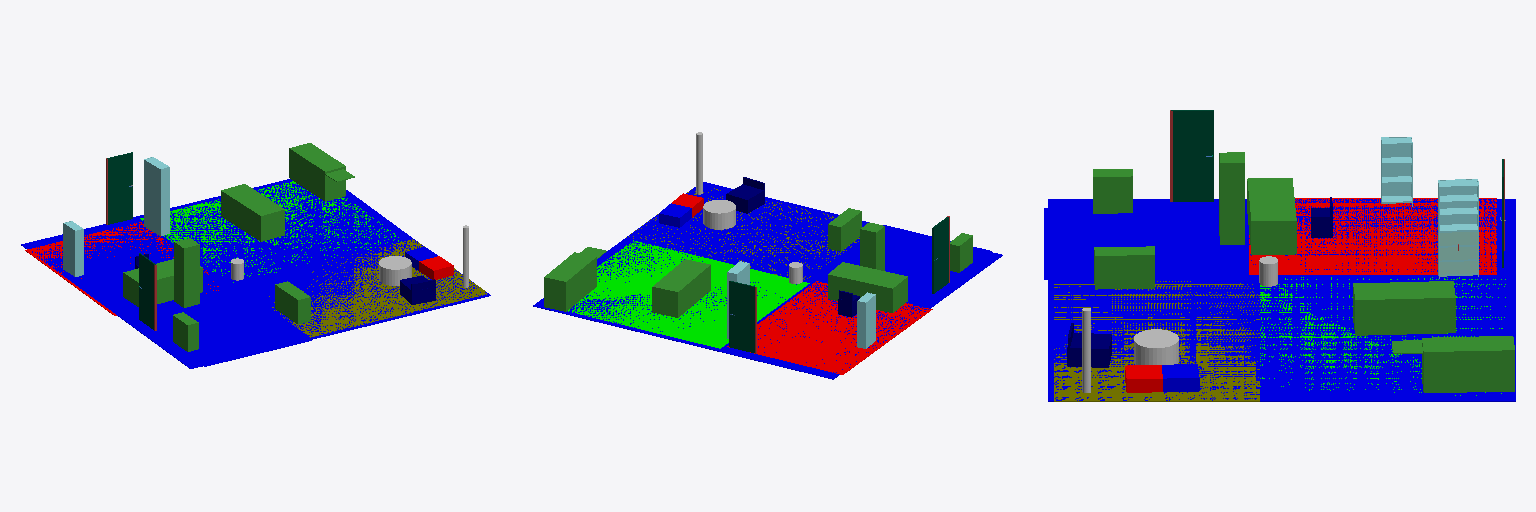
--- What the picture shows (computed from the rendered views, not written in the file) ---
The picture shows the robot from 3 angles, left to right: view 1: azimuth 30°, elevation 25°; view 2: azimuth 150°, elevation 25°; view 3: azimuth 270°, elevation 25°; orthographic projection.
Robot: iai-kitchen — 102 links, 101 joints (7 revolute, 94 fixed); root link urdf_main; default pose: all joints at 0.
Links seen in each view (by area): view 1: arena:arena:room_center_link, living_room:living_room:room_center_link, iai_kitchen:kitchen:room_center_link, dinner_table:dinner_table:table_center, kitchen_counter:kitchen_counter:table_center, coathanger:coathanger:coathanger_center, office:arena:door_center, desk:desk:table_center, office:office:room_center_link, tv_table:tv_table:table_center, shelf_hohc:kitchen_cabinet:shelf_back, iai_kitchen:arena:door_center (+6 smaller); view 2: arena:arena:room_center_link, iai_kitchen:kitchen:room_center_link, office:office:room_center_link, hallway:hallway:room_center_link, desk:desk:table_center, dinner_table:dinner_table:table_center, kitchen_counter:kitchen_counter:table_center, office:arena:door_center, iai_kitchen:arena:door_center, coathanger:coathanger:coathanger_center, tv_table:tv_table:table_center, coffee_table:coffee_table:table_center (+4 smaller); view 3: arena:arena:room_center_link, hallway:hallway:room_center_link, office:office:room_center_link, living_room:living_room:room_center_link, dinner_table:dinner_table:table_center, kitchen_counter:kitchen_counter:table_center, iai_kitchen:arena:door_center, desk:desk:table_center, tv_table:tv_table:table_center, coathanger:coathanger:coathanger_center, iai_kitchen:kitchen:room_center_link, hallway_cabinet:hallway_cabinet:table_center (+11 smaller).
Link boxes in pixels (x1,y1,x2,y2): arena:arena:room_center_link: (21,179,490,368); living_room:living_room:room_center_link: (269,239,486,337); iai_kitchen:kitchen:room_center_link: (140,181,401,282); dinner_table:dinner_table:table_center: (221,184,284,241); kitchen_counter:kitchen_counter:table_center: (289,143,345,201); coathanger:coathanger:coathanger_center: (174,238,199,307); office:arena:door_center: (107,152,132,224); desk:desk:table_center: (123,259,202,306); office:office:room_center_link: (25,222,218,315); tv_table:tv_table:table_center: (275,281,310,324); shelf_hohc:kitchen_cabinet:shelf_back: (144,159,160,235); iai_kitchen:arena:door_center: (139,253,155,329); arena:arena:room_center_link: (533,182,1002,379); iai_kitchen:kitchen:room_center_link: (568,240,809,348); office:office:room_center_link: (727,281,932,374); hallway:hallway:room_center_link: (812,225,991,303); desk:desk:table_center: (828,262,907,312); dinner_table:dinner_table:table_center: (652,259,710,317); kitchen_counter:kitchen_counter:table_center: (544,252,596,311); office:arena:door_center: (729,281,754,352); iai_kitchen:arena:door_center: (932,217,948,293); coathanger:coathanger:coathanger_center: (860,222,884,270); tv_table:tv_table:table_center: (828,208,861,251); coffee_table:coffee_table:table_center: (703,200,735,229); arena:arena:room_center_link: (1048,199,1515,401); hallway:hallway:room_center_link: (1044,208,1244,279); office:office:room_center_link: (1249,198,1496,274); living_room:living_room:room_center_link: (1054,281,1259,401); dinner_table:dinner_table:table_center: (1353,281,1455,335); kitchen_counter:kitchen_counter:table_center: (1422,336,1514,392); iai_kitchen:arena:door_center: (1171,110,1213,201); desk:desk:table_center: (1247,178,1296,254); tv_table:tv_table:table_center: (1094,246,1154,289); coathanger:coathanger:coathanger_center: (1219,152,1244,244); iai_kitchen:kitchen:room_center_link: (1260,277,1505,395); hallway_cabinet:hallway_cabinet:table_center: (1093,169,1132,213).
Bounding box of the posed robot: 9.59 × 9.36 × 2.1 m (x, y, z).
0 mesh visuals loaded from 3 distinct referenced files (none loaded); not drawn: 3 (reference not matched to a file when rendering).

URDF robot description (iai-kitchen):
<?xml version="1.0" ?>
<robot name="iai-kitchen" version="1.0">
  <material name="table_grey">
    <color rgba="0.255 0.62 0.223 1.0"/>
  </material>
  <material name="round_table_grey">
    <color rgba="0.8 0.8 0.8 1.0"/>
  </material>
  <material name="wall_pink">
    <color rgba="0.95 0.43 0.96 1.0"/>
  </material>
  <material name="shelf_blue">
    <color rgba="0.59 0.88 0.9 1.0"/>
  </material>
  <material name="shelf_door_green">
    <color rgba="0.64 0.87 0.82 1.0"/>
  </material>
  <material name="shelf_openable_handle_red">
    <color rgba="0.74 0.25 0.25 1.0"/>
  </material>
  <material name="shelf_hohc_handle_red">
    <color rgba="0.74 0.25 0.25 1.0"/>
  </material>
  <material name="door_green">
    <color rgba="0.0 0.31 0.22 1.0"/>
  </material>
  <material name="hinge_red">
    <color rgba="0.74 0.25 0.25 1.0"/>
  </material>
  <material name="handle_blue">
    <color rgba="0.3 0.5 0.78 1.0"/>
  </material>
  <material name="bucket_grey">
    <color rgba="0.8 0.8 0.8 1.0"/>
  </material>
  <material name="white">
    <color rgba="1.0 1.0 1.0 1.0"/>
  </material>
  <material name="orange">
    <color rgba="1.0 0.7 0.0 1.0"/>
  </material>
  <material name="handle_white">
    <color rgba="1.0 1.0 1.0 1.0"/>
  </material>
  <material name="bottom_white">
    <color rgba="1.0 1.0 1.0 1.0"/>
  </material>
  <material name="frame_wood">
    <color rgba="0.68 0.63 0.47 1.0"/>
  </material>
  <material name="handle_grey">
    <color rgba="0.7 0.7 0.7 1.0"/>
  </material>
  <material name="dishwasher_table_color">
    <color rgba="0.255 0.62 0.223 1.0"/>
  </material>
  <material name="dishwasher_robocup_table_color">
    <color rgba="0.255 0.62 0.223 1.0"/>
  </material>
  <material name="color_grey">
    <color rgba="0.8 0.8 0.8 1.0"/>
  </material>
  <material name="color_red">
    <color rgba="1.0 0.0 0.0 1.0"/>
  </material>
  <material name="color_blue">
    <color rgba="0.0 0.0 1.0 1.0"/>
  </material>
  <material name="simple_couch_color_grey">
    <color rgba="0.8 0.8 0.8 1.0"/>
  </material>
  <material name="simple_couch_color_red">
    <color rgba="1.0 0.0 0.0 1.0"/>
  </material>
  <material name="simple_couch_color_blue">
    <color rgba="0.0 0.0 1.0 1.0"/>
  </material>
  <material name="trashcan_color">
    <color rgba="0.8 0.8 0.8 1.0"/>
  </material>
  <material name="chair_color">
    <color rgba="0.0 0.0 0.5 1.0"/>
  </material>
  <material name="coathanger_color">
    <color rgba="0.255 0.62 0.223 1.0"/>
  </material>
  <material name="lamp_color">
    <color rgba="0.8 0.8 0.8 1.0"/>
  </material>
  <link name="tv_table:tv_table:table_center">
    <inertial>
      <origin xyz="0.0 0.0 0.0" rpy="0.0 0.0 0.0"/>
      <mass value="1.0"/>
      <inertia ixx="0.1" ixy="0.0" ixz="0.0" iyy="0.1" iyz="0.0" izz="0.1"/>
    </inertial>
    <visual>
      <origin xyz="0.0 0.0 -0.369" rpy="0.0 0.0 0.0"/>
      <geometry>
        <box size="0.412 1.2 0.738"/>
      </geometry>
      <material name="table_grey"/>
    </visual>
    <collision>
      <origin xyz="0.0 0.0 -0.369" rpy="0.0 0.0 0.0"/>
      <geometry>
        <box size="0.412 1.2 0.738"/>
      </geometry>
    </collision>
  </link>
  <link name="tv_table:tv_table:table_origin"/>
  <link name="tv_table:tv_table:table_front_edge_center"/>
  <joint name="tv_table:tv_table:table_origin_joint" type="fixed">
    <origin xyz="5.96 -0.24 0.0" rpy="0.0 0.0 3.17"/>
    <parent link="urdf_offset"/>
    <child link="tv_table:tv_table:table_origin"/>
  </joint>
  <joint name="tv_table:tv_table:center_joint" type="fixed">
    <origin xyz="0.206 0.6 0.738" rpy="0.0 0.0 0.0"/>
    <parent link="tv_table:tv_table:table_origin"/>
    <child link="tv_table:tv_table:table_center"/>
  </joint>
  <joint name="tv_table:tv_table:table_front_edge_center_joint" type="fixed">
    <origin xyz="0.0 0.6 0.738" rpy="0.0 0.0 0.0"/>
    <parent link="tv_table:tv_table:table_origin"/>
    <child link="tv_table:tv_table:table_front_edge_center"/>
  </joint>
  <link name="hallway_cabinet:hallway_cabinet:table_center">
    <inertial>
      <origin xyz="0.0 0.0 0.0" rpy="0.0 0.0 0.0"/>
      <mass value="1.0"/>
      <inertia ixx="0.1" ixy="0.0" ixz="0.0" iyy="0.1" iyz="0.0" izz="0.1"/>
    </inertial>
    <visual>
      <origin xyz="0.0 0.0 -0.404" rpy="0.0 0.0 0.0"/>
      <geometry>
        <box size="0.3503 0.795 0.808"/>
      </geometry>
      <material name="table_grey"/>
    </visual>
    <collision>
      <origin xyz="0.0 0.0 -0.404" rpy="0.0 0.0 0.0"/>
      <geometry>
        <box size="0.3503 0.795 0.808"/>
      </geometry>
    </collision>
  </link>
  <link name="hallway_cabinet:hallway_cabinet:table_origin"/>
  <link name="hallway_cabinet:hallway_cabinet:table_front_edge_center"/>
  <joint name="hallway_cabinet:hallway_cabinet:table_origin_joint" type="fixed">
    <origin xyz="2.41 -0.675 0.0" rpy="0.0 0.0 3.17"/>
    <parent link="urdf_offset"/>
    <child link="hallway_cabinet:hallway_cabinet:table_origin"/>
  </joint>
  <joint name="hallway_cabinet:hallway_cabinet:center_joint" type="fixed">
    <origin xyz="0.17515 0.3975 0.808" rpy="0.0 0.0 0.0"/>
    <parent link="hallway_cabinet:hallway_cabinet:table_origin"/>
    <child link="hallway_cabinet:hallway_cabinet:table_center"/>
  </joint>
  <joint name="hallway_cabinet:hallway_cabinet:table_front_edge_center_joint" type="fixed">
    <origin xyz="0.0 0.3975 0.808" rpy="0.0 0.0 0.0"/>
    <parent link="hallway_cabinet:hallway_cabinet:table_origin"/>
    <child link="hallway_cabinet:hallway_cabinet:table_front_edge_center"/>
  </joint>
  <link name="desk:desk:table_center">
    <inertial>
      <origin xyz="0.0 0.0 0.0" rpy="0.0 0.0 0.0"/>
      <mass value="1.0"/>
      <inertia ixx="0.1" ixy="0.0" ixz="0.0" iyy="0.1" iyz="0.0" izz="0.1"/>
    </inertial>
    <visual>
      <origin xyz="0.0 0.0 -0.3715" rpy="0.0 0.0 0.0"/>
      <geometry>
        <box size="0.901 2.017 0.743"/>
      </geometry>
      <material name="table_grey"/>
    </visual>
    <collision>
      <origin xyz="0.0 0.0 -0.3715" rpy="0.0 0.0 0.0"/>
      <geometry>
        <box size="0.901 2.017 0.743"/>
      </geometry>
    </collision>
  </link>
  <link name="desk:desk:table_origin"/>
  <link name="desk:desk:table_front_edge_center"/>
  <joint name="desk:desk:table_origin_joint" type="fixed">
    <origin xyz="2.33 2.49 0.0" rpy="0.0 0.0 -1.53"/>
    <parent link="urdf_offset"/>
    <child link="desk:desk:table_origin"/>
  </joint>
  <joint name="desk:desk:center_joint" type="fixed">
    <origin xyz="0.4505 1.0085 0.743" rpy="0.0 0.0 0.0"/>
    <parent link="desk:desk:table_origin"/>
    <child link="desk:desk:table_center"/>
  </joint>
  <joint name="desk:desk:table_front_edge_center_joint" type="fixed">
    <origin xyz="0.0 1.0085 0.743" rpy="0.0 0.0 0.0"/>
    <parent link="desk:desk:table_origin"/>
    <child link="desk:desk:table_front_edge_center"/>
  </joint>
  <link name="dinner_table:dinner_table:table_center">
    <inertial>
      <origin xyz="0.0 0.0 0.0" rpy="0.0 0.0 0.0"/>
      <mass value="1.0"/>
      <inertia ixx="0.1" ixy="0.0" ixz="0.0" iyy="0.1" iyz="0.0" izz="0.1"/>
    </inertial>
    <visual>
      <origin xyz="0.0 0.0 -0.39" rpy="0.0 0.0 0.0"/>
      <geometry>
        <box size="0.792 2.0 0.78"/>
      </geometry>
      <material name="table_grey"/>
    </visual>
    <collision>
      <origin xyz="0.0 0.0 -0.39" rpy="0.0 0.0 0.0"/>
      <geometry>
        <box size="0.792 2.0 0.78"/>
      </geometry>
    </collision>
  </link>
  <link name="dinner_table:dinner_table:table_origin"/>
  <link name="dinner_table:dinner_table:table_front_edge_center"/>
  <joint name="dinner_table:dinner_table:table_origin_joint" type="fixed">
    <origin xyz="7.38 3.69 0.0" rpy="0.0 0.0 0.06"/>
    <parent link="urdf_offset"/>
    <child link="dinner_table:dinner_table:table_origin"/>
  </joint>
  <joint name="dinner_table:dinner_table:center_joint" type="fixed">
    <origin xyz="0.396 1.0 0.78" rpy="0.0 0.0 0.0"/>
    <parent link="dinner_table:dinner_table:table_origin"/>
    <child link="dinner_table:dinner_table:table_center"/>
  </joint>
  <joint name="dinner_table:dinner_table:table_front_edge_center_joint" type="fixed">
    <origin xyz="0.0 1.0 0.78" rpy="0.0 0.0 0.0"/>
    <parent link="dinner_table:dinner_table:table_origin"/>
    <child link="dinner_table:dinner_table:table_front_edge_center"/>
  </joint>
  <link name="kitchen_counter:kitchen_counter:table_center">
    <inertial>
      <origin xyz="0.0 0.0 0.0" rpy="0.0 0.0 0.0"/>
      <mass value="1.0"/>
      <inertia ixx="0.1" ixy="0.0" ixz="0.0" iyy="0.1" iyz="0.0" izz="0.1"/>
    </inertial>
    <visual>
      <origin xyz="0.0 0.0 -0.4525" rpy="0.0 0.0 0.0"/>
      <geometry>
        <box size="0.68 1.82 0.905"/>
      </geometry>
      <material name="table_grey"/>
    </visual>
    <collision>
      <origin xyz="0.0 0.0 -0.4525" rpy="0.0 0.0 0.0"/>
      <geometry>
        <box size="0.68 1.82 0.905"/>
      </geometry>
    </collision>
  </link>
  <link name="kitchen_counter:kitchen_counter:table_origin"/>
  <link name="kitchen_counter:kitchen_counter:table_front_edge_center"/>
  <joint name="kitchen_counter:kitchen_counter:table_origin_joint" type="fixed">
    <origin xyz="10.2 5.06 0.0" rpy="0.0 0.0 0.05"/>
    <parent link="urdf_offset"/>
    <child link="kitchen_counter:kitchen_counter:table_origin"/>
  </joint>
  <joint name="kitchen_counter:kitchen_counter:center_joint" type="fixed">
    <origin xyz="0.34 0.91 0.905" rpy="0.0 0.0 0.0"/>
    <parent link="kitchen_counter:kitchen_counter:table_origin"/>
    <child link="kitchen_counter:kitchen_counter:table_center"/>
  </joint>
  <joint name="kitchen_counter:kitchen_counter:table_front_edge_center_joint" type="fixed">
    <origin xyz="0.0 0.91 0.905" rpy="0.0 0.0 0.0"/>
    <parent link="kitchen_counter:kitchen_counter:table_origin"/>
    <child link="kitchen_counter:kitchen_counter:table_front_edge_center"/>
  </joint>
  <link name="suturo_couch:couch:place1"/>
  <link name="suturo_couch:couch:place2">
    <inertial>
      <origin xyz="0.0 0.0 0.0" rpy="0.0 0.0 0.0"/>
      <mass value="1.0"/>
      <inertia ixx="0.1" ixy="0.0" ixz="0.0" iyy="0.1" iyz="0.0" izz="0.1"/>
    </inertial>
    <visual>
      <origin xyz="0.0 0.0 0.0" rpy="0.0 0.0 0.0"/>
      <geometry>
        <box size="0.65 0.725 0.3"/>
      </geometry>
      <material name="color_red"/>
    </visual>
    <collision>
      <origin xyz="0.0 0.0 0.0" rpy="0.0 0.0 0.0"/>
      <geometry>
        <box size="0.65 0.725 0.3"/>
      </geometry>
    </collision>
  </link>
  <link name="suturo_couch:couch:place3">
    <inertial>
      <origin xyz="0.0 0.0 0.0" rpy="0.0 0.0 0.0"/>
      <mass value="1.0"/>
      <inertia ixx="0.1" ixy="0.0" ixz="0.0" iyy="0.1" iyz="0.0" izz="0.1"/>
    </inertial>
    <visual>
      <origin xyz="0.0 0.0 0.0" rpy="0.0 0.0 0.0"/>
      <geometry>
        <box size="0.65 0.725 0.3"/>
      </geometry>
      <material name="color_blue"/>
    </visual>
    <collision>
      <origin xyz="0.0 0.0 0.0" rpy="0.0 0.0 0.0"/>
      <geometry>
        <box size="0.65 0.725 0.3"/>
      </geometry>
    </collision>
  </link>
  <joint name="suturo_couch:couch:couch_origin_joint" type="fixed">
    <origin xyz="10.5 -0.1 0.0" rpy="0.0 0.0 0.05"/>
    <parent link="urdf_offset"/>
    <child link="suturo_couch:couch:place1"/>
  </joint>
  <joint name="suturo_couch:couch:couch_left_joint" type="fixed">
    <origin xyz="0.0 -0.3625 0.15" rpy="0.0 0.0 0.0"/>
    <parent link="suturo_couch:couch:place1"/>
    <child link="suturo_couch:couch:place2"/>
  </joint>
  <joint name="suturo_couch:couch:couch_right_joint" type="fixed">
    <origin xyz="0.0 0.3625 0.15" rpy="0.0 0.0 0.0"/>
    <parent link="suturo_couch:couch:place1"/>
    <child link="suturo_couch:couch:place3"/>
  </joint>
  <link name="coffee_table:coffee_table:table_center">
    <inertial>
      <origin xyz="0.0 0.0 0.0" rpy="0.0 0.0 0.0"/>
      <mass value="1.0"/>
      <inertia ixx="0.1" ixy="0.0" ixz="0.0" iyy="0.1" iyz="0.0" izz="0.1"/>
    </inertial>
    <visual>
      <origin xyz="0.0 0.0 -0.245" rpy="0.0 0.0 0.0"/>
      <geometry>
        <cylinder radius="0.45" length="0.49"/>
      </geometry>
      <material name="round_table_grey"/>
    </visual>
    <collision>
      <origin xyz="0.0 0.0 -0.245" rpy="0.0 0.0 0.0"/>
      <geometry>
        <cylinder radius="0.45" length="0.49"/>
      </geometry>
    </collision>
  </link>
  <link name="coffee_table:coffee_table:table_origin"/>
  <link name="coffee_table:coffee_table:table_front_edge_center"/>
  <joint name="coffee_table:coffee_table:table_origin_joint" type="fixed">
    <origin xyz="8.91 -0.24 0.0" rpy="0.0 0.0 0.05"/>
    <parent link="urdf_offset"/>
    <child link="coffee_table:coffee_table:table_origin"/>
  </joint>
  <joint name="coffee_table:coffee_table:center_joint" type="fixed">
    <origin xyz="0.45 0.0 0.49" rpy="0.0 0.0 0.0"/>
    <parent link="coffee_table:coffee_table:table_origin"/>
    <child link="coffee_table:coffee_table:table_center"/>
  </joint>
  <joint name="coffee_table:coffee_table:table_front_edge_center_joint" type="fixed">
    <origin xyz="0.0 0.0 0.49" rpy="0.0 0.0 0.0"/>
    <parent link="coffee_table:coffee_table:table_origin"/>
    <child link="coffee_table:coffee_table:table_front_edge_center"/>
  </joint>
  <link name="shelf:shelf:shelf_origin"/>
  <link name="shelf:shelf:shelf_center"/>
  <link name="shelf:shelf:shelf_base_center"/>
  <joint name="shelf:shelf:shelf_origin_joint" type="fixed">
    <origin xyz="2.09 4.87 0.0" rpy="0.0 0.0 3.2"/>
    <parent link="urdf_offset"/>
    <child link="shelf:shelf:shelf_origin"/>
  </joint>
  <joint name="shelf:shelf:shelf_center_joint" type="fixed">
    <origin xyz="0.1375 0.3 0.7" rpy="0.0 0.0 0.0"/>
    <parent link="shelf:shelf:shelf_origin"/>
    <child link="shelf:shelf:shelf_center"/>
  </joint>
  <joint name="shelf:shelf:shelf_base_center_joint" type="fixed">
    <origin xyz="0.1375 0.3 0.0" rpy="0.0 0.0 0.0"/>
    <parent link="shelf:shelf:shelf_origin"/>
    <child link="shelf:shelf:shelf_base_center"/>
  </joint>
  <link name="shelf:shelf:shelf_back">
    <inertial>
      <origin xyz="0.0 0.0 0.0" rpy="0.0 0.0 0.0"/>
      <mass value="1.0"/>
      <inertia ixx="0.1" ixy="0.0" ixz="0.0" iyy="0.1" iyz="0.0" izz="0.1"/>
    </inertial>
    <visual>
      <origin xyz="0.0 0.0 0.0" rpy="0.0 0.0 0.0"/>
      <geometry>
        <box size="0.01 0.6 1.4"/>
      </geometry>
      <material name="shelf_blue"/>
    </visual>
    <collision>
      <origin xyz="0.0 0.0 0.0" rpy="0.0 0.0 0.0"/>
      <geometry>
        <box size="0.01 0.6 1.4"/>
      </geometry>
    </collision>
  </link>
  <joint name="shelf:shelf:shelf_back:joint" type="fixed">
    <origin xyz="0.275 0.3 0.7" rpy="0.0 0.0 0.0"/>
    <parent link="shelf:shelf:shelf_origin"/>
    <child link="shelf:shelf:shelf_back"/>
  </joint>
  <link name="shelf:shelf:shelf_right_side">
    <inertial>
      <origin xyz="0.0 0.0 0.0" rpy="0.0 0.0 0.0"/>
      <mass value="1.0"/>
      <inertia ixx="0.1" ixy="0.0" ixz="0.0" iyy="0.1" iyz="0.0" izz="0.1"/>
    </inertial>
    <visual>
      <origin xyz="0.0 0.0 0.0" rpy="0.0 0.0 0.0"/>
      <geometry>
        <box size="0.275 0.01 1.4"/>
      </geometry>
      <material name="shelf_blue"/>
    </visual>
    <collision>
      <origin xyz="0.0 0.0 0.0" rpy="0.0 0.0 0.0"/>
      <geometry>
        <box size="0.275 0.01 1.4"/>
      </geometry>
    </collision>
  </link>
  <joint name="shelf:shelf:shelf_right_side:joint" type="fixed">
    <origin xyz="0.1375 0.0 0.7" rpy="0.0 0.0 0.0"/>
    <parent link="shelf:shelf:shelf_origin"/>
    <child link="shelf:shelf:shelf_right_side"/>
  </joint>
  <link name="shelf:shelf:shelf_left_side">
    <inertial>
      <origin xyz="0.0 0.0 0.0" rpy="0.0 0.0 0.0"/>
      <mass value="1.0"/>
      <inertia ixx="0.1" ixy="0.0" ixz="0.0" iyy="0.1" iyz="0.0" izz="0.1"/>
    </inertial>
    <visual>
      <origin xyz="0.0 0.0 0.0" rpy="0.0 0.0 0.0"/>
      <geometry>
        <box size="0.275 0.01 1.4"/>
      </geometry>
      <material name="shelf_blue"/>
    </visual>
    <collision>
      <origin xyz="0.0 0.0 0.0" rpy="0.0 0.0 0.0"/>
      <geometry>
        <box size="0.275 0.01 1.4"/>
      </geometry>
    </collision>
  </link>
  <joint name="shelf:shelf:shelf_left_side:joint" type="fixed">
    <origin xyz="0.1375 0.6 0.7" rpy="0.0 0.0 0.0"/>
    <parent link="shelf:shelf:shelf_origin"/>
    <child link="shelf:shelf:shelf_left_side"/>
  </joint>
  <link name="shelf:shelf:shelf_floor_0">
    <inertial>
      <origin xyz="0.0 0.0 0.0" rpy="0.0 0.0 0.0"/>
      <mass value="1.0"/>
      <inertia ixx="0.1" ixy="0.0" ixz="0.0" iyy="0.1" iyz="0.0" izz="0.1"/>
    </inertial>
    <visual>
      <origin xyz="0.0 0.0 -0.02" rpy="0.0 0.0 0.0"/>
      <geometry>
        <box size="0.275 0.6 0.04"/>
      </geometry>
      <material name="shelf_blue"/>
    </visual>
    <collision>
      <origin xyz="0.0 0.0 -0.02" rpy="0.0 0.0 0.0"/>
      <geometry>
        <box size="0.275 0.6 0.04"/>
      </geometry>
    </collision>
  </link>
  <joint name="shelf:shelf:shelf_floor_0:joint" type="fixed">
    <origin xyz="0.0 0.0 0.115" rpy="0.0 0.0 0.0"/>
    <parent link="shelf:shelf:shelf_base_center"/>
    <child link="shelf:shelf:shelf_floor_0"/>
  </joint>
  <link name="shelf:shelf:shelf_floor_1">
    <inertial>
      <origin xyz="0.0 0.0 0.0" rpy="0.0 0.0 0.0"/>
      <mass value="1.0"/>
      <inertia ixx="0.1" ixy="0.0" ixz="0.0" iyy="0.1" iyz="0.0" izz="0.1"/>
    </inertial>
    <visual>
      <origin xyz="0.0 0.0 -0.02" rpy="0.0 0.0 0.0"/>
      <geometry>
        <box size="0.275 0.6 0.04"/>
      </geometry>
      <material name="shelf_blue"/>
    </visual>
    <collision>
      <origin xyz="0.0 0.0 -0.02" rpy="0.0 0.0 0.0"/>
      <geometry>
        <box size="0.275 0.6 0.04"/>
      </geometry>
    </collision>
  </link>
  <joint name="shelf:shelf:shelf_floor_1:joint" type="fixed">
    <origin xyz="0.0 0.0 0.54" rpy="0.0 0.0 0.0"/>
    <parent link="shelf:shelf:shelf_base_center"/>
    <child link="shelf:shelf:shelf_floor_1"/>
  </joint>
  <link name="shelf:shelf:shelf_floor_2">
    <inertial>
      <origin xyz="0.0 0.0 0.0" rpy="0.0 0.0 0.0"/>
      <mass value="1.0"/>
      <inertia ixx="0.1" ixy="0.0" ixz="0.0" iyy="0.1" iyz="0.0" izz="0.1"/>
    </inertial>
    <visual>
      <origin xyz="0.0 0.0 -0.02" rpy="0.0 0.0 0.0"/>
      <geometry>
        <box size="0.275 0.6 0.04"/>
      </geometry>
      <material name="shelf_blue"/>
    </visual>
    <collision>
      <origin xyz="0.0 0.0 -0.02" rpy="0.0 0.0 0.0"/>
      <geometry>
        <box size="0.275 0.6 0.04"/>
      </geometry>
    </collision>
  </link>
  <joint name="shelf:shelf:shelf_floor_2:joint" type="fixed">
    <origin xyz="0.0 0.0 0.96" rpy="0.0 0.0 0.0"/>
    <parent link="shelf:shelf:shelf_base_center"/>
    <child link="shelf:shelf:shelf_floor_2"/>
  </joint>
  <link name="shelf:shelf:shelf_floor_3">
    <inertial>
      <origin xyz="0.0 0.0 0.0" rpy="0.0 0.0 0.0"/>
      <mass value="1.0"/>
      <inertia ixx="0.1" ixy="0.0" ixz="0.0" iyy="0.1" iyz="0.0" izz="0.1"/>
    </inertial>
    <visual>
      <origin xyz="0.0 0.0 -0.02" rpy="0.0 0.0 0.0"/>
      <geometry>
        <box size="0.275 0.6 0.04"/>
      </geometry>
      <material name="shelf_blue"/>
    </visual>
    <collision>
      <origin xyz="0.0 0.0 -0.02" rpy="0.0 0.0 0.0"/>
      <geometry>
        <box size="0.275 0.6 0.04"/>
      </geometry>
    </collision>
  </link>
  <joint name="shelf:shelf:shelf_floor_3:joint" type="fixed">
    <origin xyz="0.0 0.0 1.39" rpy="0.0 0.0 0.0"/>
    <parent link="shelf:shelf:shelf_base_center"/>
    <child link="shelf:shelf:shelf_floor_3"/>
  </joint>
  <joint name="world_hallway:hallway:room_joint" type="fixed">
    <origin xyz="3.75 -0.446 -0.05" rpy="0.0 0.0 0.0"/>
    <parent link="urdf_offset"/>
    <child link="hallway:hallway:room_center_link"/>
  </joint>
  <link name="hallway:hallway:room_center_link">
    <inertial>
      <origin xyz="0.0 0.0 0.0" rpy="0.0 0.0 0.0"/>
      <mass value="1.0"/>
      <inertia ixx="0.1" ixy="0.0" ixz="0.0" iyy="0.1" iyz="0.0" izz="0.1"/>
    </inertial>
    <visual>
      <geometry>
        <box size="3.39 3.99 0.01"/>
      </geometry>
      <material name="hallway:hallway:color">
        <color rgba="0.0 0.0 1.0 0.1"/>
      </material>
    </visual>
    <collision>
      <geometry>
        <box size="3.39 3.99 0.01"/>
      </geometry>
    </collision>
  </link>
  <joint name="room_hallway_entry:entry:connection_joint" type="fixed">
    <origin xyz="-1.3399999999999999 0.946 0.0" rpy="0.0 0.0 0.0"/>
    <parent link="hallway:hallway:room_center_link"/>
    <child link="hallway_entry:entry:link"/>
  </joint>
  <link name="hallway_entry:entry:link"/>
  <joint name="room_hallway_living_room_exit:exit:connection_joint" type="fixed">
    <origin xyz="1.7800000000000002 0.666 0.0" rpy="0.0 0.0 0.0"/>
    <parent link="hallway:hallway:room_center_link"/>
    <child link="hallway_living_room_exit:exit:link"/>
  </joint>
  <link name="hallway_living_room_exit:exit:link"/>
  <joint name="room_hallway_office_exit:exit:connection_joint" type="fixed">
    <origin xyz="1.17 2.106 0.0" rpy="0.0 0.0 0.0"/>
    <parent link="hallway:hallway:room_center_link"/>
    <child link="hallway_office_exit:exit:link"/>
  </joint>
  <link name="hallway_office_exit:exit:link"/>
  <joint name="world_living_room:living_room:room_joint" type="fixed">
    <origin xyz="8.33 -0.2 -0.05" rpy="0.0 0.0 0.0"/>
    <parent link="urdf_offset"/>
    <child link="living_room:living_room:room_center_link"/>
  </joint>
  <link name="living_room:living_room:room_center_link">
    <inertial>
      <origin xyz="0.0 0.0 0.0" rpy="0.0 0.0 0.0"/>
      <mass value="1.0"/>
      <inertia ixx="0.1" ixy="0.0" ixz="0.0" iyy="0.1" iyz="0.0" izz="0.1"/>
    </inertial>
    <visual>
      <geometry>
        <box size="5.65 4.1 0.01"/>
      </geometry>
      <material name="living_room:living_room:color">
        <color rgba="0.5 0.5 0.0 0.1"/>
      </material>
    </visual>
    <collision>
      <geometry>
        <box size="5.65 4.1 0.01"/>
      </geometry>
    </collision>
  </link>
  <joint name="room_living_room_hallway_entry_exit:entry_exit:connection_joint" type="fixed">
    <origin xyz="-2.8 0.42000000000000004 0.0" rpy="0.0 0.0 0.0"/>
    <parent link="living_room:living_room:room_center_link"/>
    <child link="living_room_hallway_entry_exit:entry_exit:link"/>
  </joint>
  <link name="living_room_hallway_entry_exit:entry_exit:link"/>
  <joint name="room_living_room_kitchen_entry_exit:entry_exit:connection_joint" type="fixed">
    <origin xyz="0.4800000000000004 2.1 0.0" rpy="0.0 0.0 0.0"/>
    <parent link="living_room:living_room:room_center_link"/>
    <child link="living_room_kitchen_entry_exit:entry_exit:link"/>
  </joint>
  <link name="living_room_kitchen_entry_exit:entry_exit:link"/>
  <joint name="world_iai_kitchen:kitchen:room_joint" type="fixed">
    <origin xyz="8.1 4.3 -0.05" rpy="0.0 0.0 0.0"/>
    <parent link="urdf_offset"/>
    <child link="iai_kitchen:kitchen:room_center_link"/>
  </joint>
  <link name="iai_kitchen:kitchen:room_center_link">
    <inertial>
      <origin xyz="0.0 0.0 0.0" rpy="0.0 0.0 0.0"/>
      <mass value="1.0"/>
      <inertia ixx="0.1" ixy="0.0" ixz="0.0" iyy="0.1" iyz="0.0" izz="0.1"/>
    </inertial>
    <visual>
      <geometry>
        <box size="5.57 4.9 0.01"/>
      </geometry>
      <material name="iai_kitchen:kitchen:color">
        <color rgba="0.0 1.0 0.0 0.1"/>
      </material>
    </visual>
    <collision>
      <geometry>
        <box size="5.57 4.9 0.01"/>
      </geometry>
    </collision>
  </link>
  <joint name="room_kitchen_living_room_entry_exit:entry_exit:connection_joint" type="fixed">
    <origin xyz="0.7100000000000009 -4.08 0.0" rpy="0.0 0.0 0.0"/>
    <parent link="iai_kitchen:kitchen:room_center_link"/>
    <child link="kitchen_living_room_entry_exit:entry_exit:link"/>
  </joint>
  <link name="kitchen_living_room_entry_exit:entry_exit:link"/>
  <joint name="room_kitchen_office_entry_exit:entry_exit:connection_joint" type="fixed">
    <origin xyz="-2.76 -0.7199999999999998 0.0" rpy="0.0 0.0 0.0"/>
    <parent link="iai_kitchen:kitchen:room_center_link"/>
    <child link="kitchen_office_entry_exit:entry_exit:link"/>
  </joint>
  <link name="kitchen_office_entry_exit:entry_exit:link"/>
  <joint name="world_office:office:room_joint" type="fixed">
    <origin xyz="3.4 4.09 -0.05" rpy="0.0 0.0 0.0"/>
    <parent link="urdf_offset"/>
    <child link="office:office:room_center_link"/>
  </joint>
  <link name="office:office:room_center_link">
    <inertial>
      <origin xyz="0.0 0.0 0.0" rpy="0.0 0.0 0.0"/>
      <mass value="1.0"/>
      <inertia ixx="0.1" ixy="0.0" ixz="0.0" iyy="0.1" iyz="0.0" izz="0.1"/>
    </inertial>
    <visual>
      <geometry>
        <box size="3.66 4.92 0.01"/>
      </geometry>
      <material name="office:office:color">
        <color rgba="1.0 0.0 0.0 0.1"/>
      </material>
    </visual>
    <collision>
      <geometry>
        <box size="3.66 4.92 0.01"/>
      </geometry>
    </collision>
  </link>
  <joint name="room_office_living_room_entry_exit:entry_exit:connection_joint" type="fixed">
    <origin xyz="1.94 -0.5099999999999998 0.0" rpy="0.0 0.0 0.0"/>
    <parent link="office:office:room_center_link"/>
    <child link="office_living_room_entry_exit:entry_exit:link"/>
  </joint>
  <link name="office_living_room_entry_exit:entry_exit:link"/>
  <joint name="room_office_hallway_entry_exit:exit:connection_joint" type="fixed">
    <origin xyz="1.52 -2.4299999999999997 0.0" rpy="0.0 0.0 0.0"/>
    <parent link="office:office:room_center_link"/>
    <child link="office_hallway_entry_exit:exit:link"/>
  </joint>
  <link name="office_hallway_entry_exit:exit:link"/>
  <joint name="room_office_exit:exit:connection_joint" type="fixed">
    <origin xyz="1.3199999999999998 3.38 0.0" rpy="0.0 0.0 0.0"/>
    <parent link="office:office:room_center_link"/>
    <child link="office_exit:exit:link"/>
  </joint>
  <link name="office_exit:exit:link"/>
  <joint name="world_arena:arena:room_joint" type="fixed">
    <origin xyz="6.4 2.27 -0.05" rpy="0.0 0.0 0.0"/>
    <parent link="urdf_offset"/>
    <child link="arena:arena:room_center_link"/>
  </joint>
  <link name="arena:arena:room_center_link">
    <inertial>
      <origin xyz="0.0 0.0 0.0" rpy="0.0 0.0 0.0"/>
      <mass value="1.0"/>
      <inertia ixx="0.1" ixy="0.0" ixz="0.0" iyy="0.1" iyz="0.0" izz="0.1"/>
    </inertial>
    <visual>
      <geometry>
        <box size="9.5 9.3 0.01"/>
      </geometry>
      <material name="arena:arena:color">
        <color rgba="0.0 0.0 1.0 0.1"/>
      </material>
    </visual>
    <collision>
      <geometry>
        <box size="9.5 9.3 0.01"/>
      </geometry>
    </collision>
  </link>
  <joint name="room_arena_entry:entry:connection_joint" type="fixed">
    <origin xyz="-3.99 -1.77 0.0" rpy="0.0 0.0 0.0"/>
    <parent link="arena:arena:room_center_link"/>
    <child link="arena_entry:entry:link"/>
  </joint>
  <link name="arena_entry:entry:link"/>
  <joint name="room_arena_exit:exit:connection_joint" type="fixed">
    <origin xyz="-1.6800000000000006 5.199999999999999 0.0" rpy="0.0 0.0 0.0"/>
    <parent link="arena:arena:room_center_link"/>
    <child link="arena_exit:exit:link"/>
  </joint>
  <link name="arena_exit:exit:link"/>
  <link name="iai_kitchen:arena:door_center">
    <inertial>
      <origin xyz="0.0 0.0 0.0" rpy="0.0 0.0 0.0"/>
      <mass value="1.0"/>
      <inertia ixx="0.1" ixy="0.0" ixz="0.0" iyy="0.1" iyz="0.0" izz="0.1"/>
    </inertial>
    <visual>
      <origin xyz="0.4275 0.0 0.0" rpy="0.0 0.0 0.0"/>
      <geometry>
        <box size="0.855 0.038 2.0"/>
      </geometry>
      <material name="door_green"/>
    </visual>
    <collision>
      <origin xyz="0.4275 0.0 0.0" rpy="0.0 0.0 0.0"/>
      <geometry>
        <box size="0.855 0.038 2.0"/>
      </geometry>
    </collision>
  </link>
  <link name="iai_kitchen:arena:door_hinge">
    <inertial>
      <origin xyz="0.0 0.0 0.0" rpy="0.0 0.0 0.0"/>
      <mass value="1.0"/>
      <inertia ixx="0.1" ixy="0.0" ixz="0.0" iyy="0.1" iyz="0.0" izz="0.1"/>
    </inertial>
    <visual>
      <origin xyz="0.0 0.0 0.0" rpy="0.0 0.0 0.0"/>
      <geometry>
        <box size="0.05 0.05 2.0"/>
      </geometry>
      <material name="hinge_red"/>
    </visual>
    <collision>
      <origin xyz="0.0 0.0 0.0" rpy="0.0 0.0 0.0"/>
      <geometry>
        <box size="0.05 0.05 2.0"/>
      </geometry>
    </collision>
  </link>
  <link name="iai_kitchen:arena:door_handle_link">
    <inertial>
      <origin xyz="0.0 0.0 0.0" rpy="0.0 0.0 0.0"/>
      <mass value="1.0"/>
      <inertia ixx="0.1" ixy="0.0" ixz="0.0" iyy="0.1" iyz="0.0" izz="0.1"/>
    </inertial>
    <visual>
      <origin xyz="0.0 0.0 0.0" rpy="0.0 0.0 0.0"/>
      <geometry>
        <cylinder radius="0.013" length="0.1"/>
      </geometry>
    </visual>
    <collision>
      <origin xyz="0.0 0.0 0.0" rpy="0.0 0.0 0.0"/>
      <geometry>
        <cylinder radius="0.013" length="0.1"/>
      </geometry>
    </collision>
  </link>
  <gazebo reference="iai_kitchen:arena:door_handle_link">
    <turnGravityOff>true</turnGravityOff>
  </gazebo>
  <link name="iai_kitchen:arena:door_handle_outside">
    <inertial>
      <origin xyz="0.0 0.0 0.0" rpy="0.0 0.0 0.0"/>
      <mass value="1.0"/>
      <inertia ixx="0.1" ixy="0.0" ixz="0.0" iyy="0.1" iyz="0.0" izz="0.1"/>
    </inertial>
    <visual>
      <origin xyz="0.0 0.0 0.0" rpy="0.0 0.0 0.0"/>
      <geometry>
        <box size="0.015 0.15 0.01"/>
      </geometry>
      <material name="handle_blue"/>
    </visual>
    <collision>
      <origin xyz="0.0 0.0 0.0" rpy="0.0 0.0 0.0"/>
      <geometry>
        <box size="0.015 0.15 0.01"/>
      </geometry>
    </collision>
  </link>
  <gazebo reference="iai_kitchen:arena:door_handle_outside">
    <turnGravityOff>true</turnGravityOff>
  </gazebo>
  <link name="iai_kitchen:arena:door_handle_inside">
    <inertial>
      <origin xyz="0.0 0.0 0.0" rpy="0.0 0.0 0.0"/>
      <mass value="1.0"/>
      <inertia ixx="0.1" ixy="0.0" ixz="0.0" iyy="0.1" iyz="0.0" izz="0.1"/>
    </inertial>
    <visual>
      <origin xyz="0.0 0.0 0.0" rpy="0.0 0.0 0.0"/>
      <geometry>
        <box size="0.012 0.12 0.01"/>
      </geometry>
      <material name="handle_blue"/>
    </visual>
    <collision>
      <origin xyz="0.0 0.0 0.0" rpy="0.0 0.0 0.0"/>
      <geometry>
        <box size="0.015 0.15 0.01"/>
      </geometry>
    </collision>
  </link>
  <gazebo reference="iai_kitchen:arena:door_handle_inside">
    <turnGravityOff>true</turnGravityOff>
  </gazebo>
  <joint name="iai_kitchen:arena:door_origin_revolute_joint" type="revolute">
    <origin xyz="0.0 0.0 0.0" rpy="0.0 0.0 1.57"/>
    <axis xyz="0.0 0.0 1.0"/>
    <parent link="iai_kitchen:arena:door_hinge"/>
    <child link="iai_kitchen:arena:door_center"/>
    <limit effort="100.0" lower="-1.4" upper="0.0" velocity="10.0"/>
  </joint>
  <joint name="iai_kitchen:arena:door_hinge_joint" type="fixed">
    <origin xyz="1.961 0.08 1.04" rpy="0.0 0.0 0.0"/>
    <axis xyz="0.0 0.0 0.0"/>
    <parent link="urdf_offset"/>
    <child link="iai_kitchen:arena:door_hinge"/>
    <limit effort="1.0" lower="0.0" upper="1.5708" velocity="1.0"/>
  </joint>
  <joint name="iai_kitchen:arena:door_handle_joint" type="revolute">
    <origin xyz="0.82 0.0 0.02" rpy="1.5707963267948966 0.0 0.0"/>
    <axis xyz="0.0 0.0 1.0"/>
    <parent link="iai_kitchen:arena:door_center"/>
    <child link="iai_kitchen:arena:door_handle_link"/>
    <limit effort="1.0" lower="0.0" upper="0.6283185307179586" velocity="1.0"/>
  </joint>
  <joint name="iai_kitchen:arena:door_handle_inside_joint" type="fixed">
    <origin xyz="-0.069 0.0 0.06" rpy="0.0 0.0 1.5707963267948966"/>
    <parent link="iai_kitchen:arena:door_handle_link"/>
    <child link="iai_kitchen:arena:door_handle_inside"/>
  </joint>
  <joint name="iai_kitchen:arena:door_handle_outside_joint" type="fixed">
    <origin xyz="-0.075 0.0 -0.05" rpy="0.0 0.0 -1.5707963267948966"/>
    <parent link="iai_kitchen:arena:door_handle_link"/>
    <child link="iai_kitchen:arena:door_handle_outside"/>
  </joint>
  <link name="office:arena:door_center">
    <inertial>
      <origin xyz="0.0 0.0 0.0" rpy="0.0 0.0 0.0"/>
      <mass value="1.0"/>
      <inertia ixx="0.1" ixy="0.0" ixz="0.0" iyy="0.1" iyz="0.0" izz="0.1"/>
    </inertial>
    <visual>
      <origin xyz="0.41 0.0 0.0" rpy="0.0 0.0 0.0"/>
      <geometry>
        <box size="0.82 0.04 2.0"/>
      </geometry>
      <material name="door_green"/>
    </visual>
    <collision>
      <origin xyz="0.41 0.0 0.0" rpy="0.0 0.0 0.0"/>
      <geometry>
        <box size="0.82 0.04 2.0"/>
      </geometry>
    </collision>
  </link>
  <link name="office:arena:door_hinge">
    <inertial>
      <origin xyz="0.0 0.0 0.0" rpy="0.0 0.0 0.0"/>
      <mass value="1.0"/>
      <inertia ixx="0.1" ixy="0.0" ixz="0.0" iyy="0.1" iyz="0.0" izz="0.1"/>
    </inertial>
    <visual>
      <origin xyz="0.0 0.0 0.0" rpy="0.0 0.0 0.0"/>
      <geometry>
        <box size="0.05 0.05 2.0"/>
      </geometry>
      <material name="hinge_red"/>
    </visual>
    <collision>
      <origin xyz="0.0 0.0 0.0" rpy="0.0 0.0 0.0"/>
      <geometry>
        <box size="0.05 0.05 2.0"/>
      </geometry>
    </collision>
  </link>
  <link name="office:arena:door_handle_link">
    <inertial>
      <origin xyz="0.0 0.0 0.0" rpy="0.0 0.0 0.0"/>
      <mass value="1.0"/>
      <inertia ixx="0.1" ixy="0.0" ixz="0.0" iyy="0.1" iyz="0.0" izz="0.1"/>
    </inertial>
    <visual>
      <origin xyz="0.0 0.0 0.0" rpy="0.0 0.0 0.0"/>
      <geometry>
        <cylinder radius="0.013" length="0.1"/>
      </geometry>
    </visual>
    <collision>
      <origin xyz="0.0 0.0 0.0" rpy="0.0 0.0 0.0"/>
      <geometry>
        <cylinder radius="0.013" length="0.1"/>
      </geometry>
    </collision>
  </link>
  <gazebo reference="office:arena:door_handle_link">
    <turnGravityOff>true</turnGravityOff>
  </gazebo>
  <link name="office:arena:door_handle_outside">
    <inertial>
      <origin xyz="0.0 0.0 0.0" rpy="0.0 0.0 0.0"/>
      <mass value="1.0"/>
      <inertia ixx="0.1" ixy="0.0" ixz="0.0" iyy="0.1" iyz="0.0" izz="0.1"/>
    </inertial>
    <visual>
      <origin xyz="0.0 0.0 0.0" rpy="0.0 0.0 0.0"/>
      <geometry>
        <box size="0.015 0.15 0.01"/>
      </geometry>
      <material name="handle_blue"/>
    </visual>
    <collision>
      <origin xyz="0.0 0.0 0.0" rpy="0.0 0.0 0.0"/>
      <geometry>
        <box size="0.015 0.15 0.01"/>
      </geometry>
    </collision>
  </link>
  <gazebo reference="office:arena:door_handle_outside">
    <turnGravityOff>true</turnGravityOff>
  </gazebo>
  <link name="office:arena:door_handle_inside">
    <inertial>
      <origin xyz="0.0 0.0 0.0" rpy="0.0 0.0 0.0"/>
      <mass value="1.0"/>
      <inertia ixx="0.1" ixy="0.0" ixz="0.0" iyy="0.1" iyz="0.0" izz="0.1"/>
    </inertial>
    <visual>
      <origin xyz="0.0 0.0 0.0" rpy="0.0 0.0 0.0"/>
      <geometry>
        <box size="0.012 0.12 0.01"/>
      </geometry>
      <material name="handle_blue"/>
    </visual>
    <collision>
      <origin xyz="0.0 0.0 0.0" rpy="0.0 0.0 0.0"/>
      <geometry>
        <box size="0.015 0.15 0.01"/>
      </geometry>
    </collision>
  </link>
  <gazebo reference="office:arena:door_handle_inside">
    <turnGravityOff>true</turnGravityOff>
  </gazebo>
  <joint name="office:arena:door_origin_revolute_joint" type="revolute">
    <origin xyz="0.0 0.0 0.0" rpy="0.0 0.0 0.0"/>
    <axis xyz="0.0 0.0 1.0"/>
    <parent link="office:arena:door_hinge"/>
    <child link="office:arena:door_center"/>
    <limit effort="100.0" lower="-1.4" upper="0.0" velocity="10.0"/>
  </joint>
  <joint name="office:arena:door_hinge_joint" type="fixed">
    <origin xyz="4.24 6.68 1.04" rpy="0.0 0.0 0.0"/>
    <axis xyz="0.0 0.0 0.0"/>
    <parent link="urdf_offset"/>
    <child link="office:arena:door_hinge"/>
    <limit effort="1.0" lower="0.0" upper="1.5708" velocity="1.0"/>
  </joint>
  <joint name="office:arena:door_handle_joint" type="revolute">
    <origin xyz="0.77 0.0 0.02" rpy="1.5707963267948966 0.0 0.0"/>
    <axis xyz="0.0 0.0 1.0"/>
    <parent link="office:arena:door_center"/>
    <child link="office:arena:door_handle_link"/>
    <limit effort="1.0" lower="0.0" upper="0.6283185307179586" velocity="1.0"/>
  </joint>
  <joint name="office:arena:door_handle_inside_joint" type="fixed">
    <origin xyz="-0.069 0.0 0.06" rpy="0.0 0.0 1.5707963267948966"/>
    <parent link="office:arena:door_handle_link"/>
    <child link="office:arena:door_handle_inside"/>
  </joint>
  <joint name="office:arena:door_handle_outside_joint" type="fixed">
    <origin xyz="-0.075 0.0 -0.05" rpy="0.0 0.0 -1.5707963267948966"/>
    <parent link="office:arena:door_handle_link"/>
    <child link="office:arena:door_handle_outside"/>
  </joint>
  <link name="dishwasher_main">
    <inertial>
      <origin xyz="0.0 0.0 0.0" rpy="0.0 0.0 0.0"/>
      <mass value="1.0"/>
      <inertia ixx="1.0" ixy="0.0" ixz="0.0" iyy="1.0" iyz="0.0" izz="1.0"/>
    </inertial>
  </link>
  <joint name="dishwasher_main" type="fixed">
    <origin xyz="10.5 4.77 0.0" rpy="0.0 0.0 3.19"/>
    <parent link="urdf_offset"/>
    <child link="dishwasher_main"/>
  </joint>
  <link name="sink_area_dish_washer_main">
    <inertial>
      <origin xyz="0.0 0.0 0.0" rpy="0.0 0.0 0.0"/>
      <mass value="1.0"/>
      <inertia ixx="1.0" ixy="0.0" ixz="0.0" iyy="1.0" iyz="0.0" izz="1.0"/>
    </inertial>
    <visual>
      <origin xyz="0.0 0.0 0.0" rpy="0.0 0.0 0.0"/>
      <geometry>
        <mesh filename="package://iai_kitchen/meshes/misc/DishWasher.obj"/>
      </geometry>
    </visual>
    <collision>
      <origin xyz="0.0 0.0 0.0" rpy="0.0 0.0 0.0"/>
      <geometry>
        <mesh filename="package://iai_kitchen/meshes/misc/DishWasher.obj"/>
      </geometry>
    </collision>
  </link>
  <link name="sink_area_dish_washer_door">
    <inertial>
      <origin xyz="0.0 0.0 0.0" rpy="0.0 0.0 0.0"/>
      <mass value="1.0"/>
      <inertia ixx="1.0" ixy="0.0" ixz="0.0" iyy="1.0" iyz="0.0" izz="1.0"/>
    </inertial>
    <visual>
      <origin xyz="0.0 0.0 0.0" rpy="1.57079632679 0.0 0.0"/>
      <geometry>
        <mesh filename="package://iai_kitchen/meshes/misc/DishWasherDoor.obj"/>
      </geometry>
    </visual>
    <collision>
      <origin xyz="0.0 0.0 0.0" rpy="1.57079632679 0.0 0.0"/>
      <geometry>
        <mesh filename="package://iai_kitchen/meshes/misc/DishWasherDoor.obj"/>
      </geometry>
    </collision>
  </link>
  <gazebo reference="sink_area_dish_washer_door">
    <turnGravityOff>true</turnGravityOff>
  </gazebo>
  <link name="sink_area_dish_washer_door_handle">
    <inertial>
      <origin xyz="0.1 0.0 0.0" rpy="0.0 0.0 0.0"/>
      <mass value="1.0"/>
      <inertia ixx="1.0" ixy="0.0" ixz="0.0" iyy="1.0" iyz="0.0" izz="1.0"/>
    </inertial>
    <visual>
      <origin xyz="0.01 0.0 0.0" rpy="0.0 0.0 0.0"/>
      <geometry>
        <mesh filename="package://iai_kitchen/meshes/handles/Handle60.obj"/>
      </geometry>
    </visual>
    <collision>
      <origin xyz="0.01 0.0 0.0" rpy="0.0 0.0 0.0"/>
      <geometry>
        <mesh filename="package://iai_kitchen/meshes/handles/Handle60.obj"/>
      </geometry>
    </collision>
  </link>
  <gazebo reference="sink_area_dish_washer_door_handle">
    <turnGravityOff>true</turnGravityOff>
  </gazebo>
  <link name="dishwasher_tab"/>
  <link name="dishwasher_table:d_table:table_origin"/>
  <link name="dishwasher_table:d_table:table_front_edge_center"/>
  <link name="dishwasher_table:d_table:table_center">
    <visual>
      <origin xyz="0.0 0.0 0.0" rpy="0.0 0.0 0.0"/>
      <geometry>
        <box size="0.593 0.6 0.02"/>
      </geometry>
      <material name="dishwasher_robocup_table_color"/>
    </visual>
    <collision>
      <origin xyz="0.0 0.0 0.0" rpy="0.0 0.0 0.0"/>
      <geometry>
        <box size="0.593 0.6 0.02"/>
      </geometry>
    </collision>
  </link>
  <joint name="dishwasher_tab_joint" type="fixed">
    <origin xyz="-0.1 0.1 0.15" rpy="0.0 0.0 0.0"/>
    <parent link="sink_area_dish_washer_door_handle"/>
    <child link="dishwasher_tab"/>
  </joint>
  <joint name="sink_area_dish_washer_main_joint" type="fixed">
    <origin xyz="0.0 0.0 0.44" rpy="0.0 0.0 0.0"/>
    <axis xyz="1.0 0.0 0.0"/>
    <parent link="dishwasher_main"/>
    <child link="sink_area_dish_washer_main"/>
  </joint>
  <joint name="sink_area_dish_washer_door_joint" type="revolute">
    <origin xyz="0.27 0.0 -0.325" rpy="-1.57079632679 0.03 0.0"/>
    <axis xyz="0.0 0.0 1.0"/>
    <parent link="sink_area_dish_washer_main"/>
    <child link="sink_area_dish_washer_door"/>
    <limit effort="300.0" lower="0.0" upper="1.57079632679" velocity="10.0"/>
  </joint>
  <joint name="sink_area_dish_washer_door_handle_joint" type="fixed">
    <origin xyz="0.0625 -0.6625 0.0" rpy="-1.57079632679 0.0 0.0"/>
    <parent link="sink_area_dish_washer_door"/>
    <child link="sink_area_dish_washer_door_handle"/>
  </joint>
  <joint name="dish_washer_table_main_joint" type="fixed">
    <origin xyz="0.0 0.0 0.3971" rpy="0.0 0.0 3.141592653589793"/>
    <parent link="sink_area_dish_washer_main"/>
    <child link="dishwasher_table:d_table:table_origin"/>
  </joint>
  <joint name="dish_washer_table_center_joint" type="fixed">
    <origin xyz="-0.3 0.0 0.0" rpy="0.0 0.0 0.0"/>
    <parent link="dishwasher_table:d_table:table_origin"/>
    <child link="dishwasher_table:d_table:table_front_edge_center"/>
  </joint>
  <joint name="dish_washer_table_edge_joint" type="fixed">
    <origin xyz="0.0 0.0 0.0" rpy="0.0 0.0 0.0"/>
    <parent link="dishwasher_table:d_table:table_origin"/>
    <child link="dishwasher_table:d_table:table_center"/>
  </joint>
  <link name="chair:desk_chair:chair_center">
    <visual>
      <origin xyz="0.0 0.0 0.0" rpy="0.0 0.0 0.0"/>
      <geometry>
        <box size="0.42 0.435 0.47"/>
      </geometry>
      <material name="chair_color"/>
    </visual>
    <collision>
      <origin xyz="0.0 0.0 0.0" rpy="0.0 0.0 0.0"/>
      <geometry>
        <box size="0.42 0.435 0.47"/>
      </geometry>
    </collision>
  </link>
  <link name="chair:desk_chair:chair_backrest">
    <visual>
      <origin xyz="0.0 0.0 0.0" rpy="0.0 0.0 0.0"/>
      <geometry>
        <box size="0.42 0.05 0.47"/>
      </geometry>
      <material name="chair_color"/>
    </visual>
    <collision>
      <origin xyz="0.0 0.0 0.0" rpy="0.0 0.0 0.0"/>
      <geometry>
        <box size="0.42 0.05 0.47"/>
      </geometry>
    </collision>
  </link>
  <link name="chair:desk_chair:chair_origin"/>
  <link name="chair:desk_chair:chair_front_edge_center"/>
  <joint name="chair:desk_chair:chair_origin_joint" type="fixed">
    <origin xyz="3.38 3.07 0.0" rpy="0.0 0.0 3.15"/>
    <parent link="urdf_offset"/>
    <child link="chair:desk_chair:chair_origin"/>
  </joint>
  <joint name="chair:desk_chair:center_joint" type="fixed">
    <origin xyz="0.0 0.0 0.235" rpy="0.0 0.0 0.0"/>
    <parent link="chair:desk_chair:chair_origin"/>
    <child link="chair:desk_chair:chair_center"/>
  </joint>
  <joint name="chair:desk_chair:chair_front_edge_center_joint" type="fixed">
    <origin xyz="0.0 0.2175 0.47" rpy="0.0 0.0 0.0"/>
    <parent link="chair:desk_chair:chair_origin"/>
    <child link="chair:desk_chair:chair_front_edge_center"/>
  </joint>
  <joint name="chair:desk_chair:chair_backrest_joint" type="fixed">
    <origin xyz="0.0 -0.1875 0.235" rpy="0.0 0.0 0.0"/>
    <parent link="chair:desk_chair:chair_center"/>
    <child link="chair:desk_chair:chair_backrest"/>
  </joint>
  <link name="chair:lounge_chair:chair_center">
    <visual>
      <origin xyz="0.0 0.0 0.0" rpy="0.0 0.0 0.0"/>
      <geometry>
        <box size="0.71 0.825 0.415"/>
      </geometry>
      <material name="chair_color"/>
    </visual>
    <collision>
      <origin xyz="0.0 0.0 0.0" rpy="0.0 0.0 0.0"/>
      <geometry>
        <box size="0.71 0.825 0.415"/>
      </geometry>
    </collision>
  </link>
  <link name="chair:lounge_chair:chair_backrest">
    <visual>
      <origin xyz="0.0 0.0 0.0" rpy="0.0 0.0 0.0"/>
      <geometry>
        <box size="0.71 0.05 0.415"/>
      </geometry>
      <material name="chair_color"/>
    </visual>
    <collision>
      <origin xyz="0.0 0.0 0.0" rpy="0.0 0.0 0.0"/>
      <geometry>
        <box size="0.71 0.05 0.415"/>
      </geometry>
    </collision>
  </link>
  <link name="chair:lounge_chair:chair_origin"/>
  <link name="chair:lounge_chair:chair_front_edge_center"/>
  <joint name="chair:lounge_chair:chair_origin_joint" type="fixed">
    <origin xyz="9.3 -1.54 0.0" rpy="0.0 0.0 -0.1"/>
    <parent link="urdf_offset"/>
    <child link="chair:lounge_chair:chair_origin"/>
  </joint>
  <joint name="chair:lounge_chair:center_joint" type="fixed">
    <origin xyz="0.0 0.0 0.2075" rpy="0.0 0.0 0.0"/>
    <parent link="chair:lounge_chair:chair_origin"/>
    <child link="chair:lounge_chair:chair_center"/>
  </joint>
  <joint name="chair:lounge_chair:chair_front_edge_center_joint" type="fixed">
    <origin xyz="0.0 0.4125 0.415" rpy="0.0 0.0 0.0"/>
    <parent link="chair:lounge_chair:chair_origin"/>
    <child link="chair:lounge_chair:chair_front_edge_center"/>
  </joint>
  <joint name="chair:lounge_chair:chair_backrest_joint" type="fixed">
    <origin xyz="0.0 -0.38249999999999995 0.2075" rpy="0.0 0.0 0.0"/>
    <parent link="chair:lounge_chair:chair_center"/>
    <child link="chair:lounge_chair:chair_backrest"/>
  </joint>
  <link name="shelf_hohc:kitchen_cabinet:shelf_origin"/>
  <link name="shelf_hohc:kitchen_cabinet:shelf_center"/>
  <link name="shelf_hohc:kitchen_cabinet:shelf_base_center"/>
  <joint name="shelf_hohc:kitchen_cabinet:shelf_origin_joint" type="fixed">
    <origin xyz="5.42 6.2 0.0" rpy="0.0 0.0 3.23"/>
    <parent link="urdf_offset"/>
    <child link="shelf_hohc:kitchen_cabinet:shelf_origin"/>
  </joint>
  <joint name="shelf_hohc:kitchen_cabinet:shelf_center_joint" type="fixed">
    <origin xyz="0.15 0.4 1.01" rpy="0.0 0.0 0.0"/>
    <parent link="shelf_hohc:kitchen_cabinet:shelf_origin"/>
    <child link="shelf_hohc:kitchen_cabinet:shelf_center"/>
  </joint>
  <joint name="shelf_hohc:kitchen_cabinet:shelf_base_center_joint" type="fixed">
    <origin xyz="0.15 0.4 0.0" rpy="0.0 0.0 0.0"/>
    <parent link="shelf_hohc:kitchen_cabinet:shelf_origin"/>
    <child link="shelf_hohc:kitchen_cabinet:shelf_base_center"/>
  </joint>
  <link name="shelf_hohc:kitchen_cabinet:shelf_back">
    <inertial>
      <origin xyz="0.0 0.0 0.0" rpy="0.0 0.0 0.0"/>
      <mass value="1.0"/>
      <inertia ixx="0.1" ixy="0.0" ixz="0.0" iyy="0.1" iyz="0.0" izz="0.1"/>
    </inertial>
    <visual>
      <origin xyz="0.0 0.0 0.0" rpy="0.0 0.0 0.0"/>
      <geometry>
        <box size="0.02 0.8 2.02"/>
      </geometry>
      <material name="shelf_blue"/>
    </visual>
    <collision>
      <origin xyz="0.0 0.0 0.0" rpy="0.0 0.0 0.0"/>
      <geometry>
        <box size="0.02 0.8 2.02"/>
      </geometry>
    </collision>
  </link>
  <joint name="shelf_hohc:kitchen_cabinet:shelf_back:joint" type="fixed">
    <origin xyz="0.3 0.4 1.01" rpy="0.0 0.0 0.0"/>
    <parent link="shelf_hohc:kitchen_cabinet:shelf_origin"/>
    <child link="shelf_hohc:kitchen_cabinet:shelf_back"/>
  </joint>
  <link name="shelf_hohc:kitchen_cabinet:shelf_right_side">
    <inertial>
      <origin xyz="0.0 0.0 0.0" rpy="0.0 0.0 0.0"/>
      <mass value="1.0"/>
      <inertia ixx="0.1" ixy="0.0" ixz="0.0" iyy="0.1" iyz="0.0" izz="0.1"/>
    </inertial>
    <visual>
      <origin xyz="0.0 0.0 0.0" rpy="0.0 0.0 0.0"/>
      <geometry>
        <box size="0.3 0.02 2.02"/>
      </geometry>
      <material name="shelf_blue"/>
    </visual>
    <collision>
      <origin xyz="0.0 0.0 0.0" rpy="0.0 0.0 0.0"/>
      <geometry>
        <box size="0.3 0.02 2.02"/>
      </geometry>
    </collision>
  </link>
  <joint name="shelf_hohc:kitchen_cabinet:shelf_right_side:joint" type="fixed">
    <origin xyz="0.15 0.01 1.01" rpy="0.0 0.0 0.0"/>
    <parent link="shelf_hohc:kitchen_cabinet:shelf_origin"/>
    <child link="shelf_hohc:kitchen_cabinet:shelf_right_side"/>
  </joint>
  <link name="shelf_hohc:kitchen_cabinet:shelf_left_side">
    <inertial>
      <origin xyz="0.0 0.0 0.0" rpy="0.0 0.0 0.0"/>
      <mass value="1.0"/>
      <inertia ixx="0.1" ixy="0.0" ixz="0.0" iyy="0.1" iyz="0.0" izz="0.1"/>
    </inertial>
    <visual>
      <origin xyz="0.0 0.0 0.0" rpy="0.0 0.0 0.0"/>
      <geometry>
        <box size="0.3 0.02 2.02"/>
      </geometry>
      <material name="shelf_blue"/>
    </visual>
    <collision>
      <origin xyz="0.0 0.0 0.0" rpy="0.0 0.0 0.0"/>
      <geometry>
        <box size="0.3 0.02 2.02"/>
      </geometry>
    </collision>
  </link>
  <joint name="shelf_hohc:kitchen_cabinet:shelf_left_side:joint" type="fixed">
    <origin xyz="0.15 0.79 1.01" rpy="0.0 0.0 0.0"/>
    <parent link="shelf_hohc:kitchen_cabinet:shelf_origin"/>
    <child link="shelf_hohc:kitchen_cabinet:shelf_left_side"/>
  </joint>
  <link name="shelf_hohc:kitchen_cabinet:shelf_floor_0">
    <inertial>
      <origin xyz="0.0 0.0 0.0" rpy="0.0 0.0 0.0"/>
      <mass value="1.0"/>
      <inertia ixx="0.1" ixy="0.0" ixz="0.0" iyy="0.1" iyz="0.0" izz="0.1"/>
    </inertial>
    <visual>
      <origin xyz="0.0 0.0 -0.02" rpy="0.0 0.0 0.0"/>
      <geometry>
        <box size="0.3 0.8 0.04"/>
      </geometry>
      <material name="shelf_blue"/>
    </visual>
    <collision>
      <origin xyz="0.0 0.0 -0.02" rpy="0.0 0.0 0.0"/>
      <geometry>
        <box size="0.3 0.8 0.04"/>
      </geometry>
    </collision>
  </link>
  <joint name="shelf_hohc:kitchen_cabinet:shelf_floor_0:joint" type="fixed">
    <origin xyz="0.0 0.0 0.09" rpy="0.0 0.0 0.0"/>
    <parent link="shelf_hohc:kitchen_cabinet:shelf_base_center"/>
    <child link="shelf_hohc:kitchen_cabinet:shelf_floor_0"/>
  </joint>
  <link name="shelf_hohc:kitchen_cabinet:shelf_floor_1">
    <inertial>
      <origin xyz="0.0 0.0 0.0" rpy="0.0 0.0 0.0"/>
      <mass value="1.0"/>
      <inertia ixx="0.1" ixy="0.0" ixz="0.0" iyy="0.1" iyz="0.0" izz="0.1"/>
    </inertial>
    <visual>
      <origin xyz="0.0 0.0 -0.02" rpy="0.0 0.0 0.0"/>
      <geometry>
        <box size="0.3 0.8 0.04"/>
      </geometry>
      <material name="shelf_blue"/>
    </visual>
    <collision>
      <origin xyz="0.0 0.0 -0.02" rpy="0.0 0.0 0.0"/>
      <geometry>
        <box size="0.3 0.8 0.04"/>
      </geometry>
    </collision>
  </link>
  <joint name="shelf_hohc:kitchen_cabinet:shelf_floor_1:joint" type="fixed">
    <origin xyz="0.0 0.0 0.4" rpy="0.0 0.0 0.0"/>
    <parent link="shelf_hohc:kitchen_cabinet:shelf_base_center"/>
    <child link="shelf_hohc:kitchen_cabinet:shelf_floor_1"/>
  </joint>
  <link name="shelf_hohc:kitchen_cabinet:shelf_floor_2">
    <inertial>
      <origin xyz="0.0 0.0 0.0" rpy="0.0 0.0 0.0"/>
      <mass value="1.0"/>
      <inertia ixx="0.1" ixy="0.0" ixz="0.0" iyy="0.1" iyz="0.0" izz="0.1"/>
    </inertial>
    <visual>
      <origin xyz="0.0 0.0 -0.02" rpy="0.0 0.0 0.0"/>
      <geometry>
        <box size="0.3 0.8 0.04"/>
      </geometry>
      <material name="shelf_blue"/>
    </visual>
    <collision>
      <origin xyz="0.0 0.0 -0.02" rpy="0.0 0.0 0.0"/>
      <geometry>
        <box size="0.3 0.8 0.04"/>
      </geometry>
    </collision>
  </link>
  <joint name="shelf_hohc:kitchen_cabinet:shelf_floor_2:joint" type="fixed">
    <origin xyz="0.0 0.0 0.72" rpy="0.0 0.0 0.0"/>
    <parent link="shelf_hohc:kitchen_cabinet:shelf_base_center"/>
    <child link="shelf_hohc:kitchen_cabinet:shelf_floor_2"/>
  </joint>
  <link name="shelf_hohc:kitchen_cabinet:shelf_floor_3">
    <inertial>
      <origin xyz="0.0 0.0 0.0" rpy="0.0 0.0 0.0"/>
      <mass value="1.0"/>
      <inertia ixx="0.1" ixy="0.0" ixz="0.0" iyy="0.1" iyz="0.0" izz="0.1"/>
    </inertial>
    <visual>
      <origin xyz="0.0 0.0 -0.02" rpy="0.0 0.0 0.0"/>
      <geometry>
        <box size="0.3 0.8 0.04"/>
      </geometry>
      <material name="shelf_blue"/>
    </visual>
    <collision>
      <origin xyz="0.0 0.0 -0.02" rpy="0.0 0.0 0.0"/>
      <geometry>
        <box size="0.3 0.8 0.04"/>
      </geometry>
    </collision>
  </link>
  <joint name="shelf_hohc:kitchen_cabinet:shelf_floor_3:joint" type="fixed">
    <origin xyz="0.0 0.0 1.045" rpy="0.0 0.0 0.0"/>
    <parent link="shelf_hohc:kitchen_cabinet:shelf_base_center"/>
    <child link="shelf_hohc:kitchen_cabinet:shelf_floor_3"/>
  </joint>
  <link name="shelf_hohc:kitchen_cabinet:shelf_floor_4">
    <inertial>
      <origin xyz="0.0 0.0 0.0" rpy="0.0 0.0 0.0"/>
      <mass value="1.0"/>
      <inertia ixx="0.1" ixy="0.0" ixz="0.0" iyy="0.1" iyz="0.0" izz="0.1"/>
    </inertial>
    <visual>
      <origin xyz="0.0 0.0 -0.02" rpy="0.0 0.0 0.0"/>
      <geometry>
        <box size="0.3 0.8 0.04"/>
      </geometry>
      <material name="shelf_blue"/>
    </visual>
    <collision>
      <origin xyz="0.0 0.0 -0.02" rpy="0.0 0.0 0.0"/>
      <geometry>
        <box size="0.3 0.8 0.04"/>
      </geometry>
    </collision>
  </link>
  <joint name="shelf_hohc:kitchen_cabinet:shelf_floor_4:joint" type="fixed">
    <origin xyz="0.0 0.0 1.4" rpy="0.0 0.0 0.0"/>
    <parent link="shelf_hohc:kitchen_cabinet:shelf_base_center"/>
    <child link="shelf_hohc:kitchen_cabinet:shelf_floor_4"/>
  </joint>
  <link name="shelf_hohc:kitchen_cabinet:shelf_floor_5">
    <inertial>
      <origin xyz="0.0 0.0 0.0" rpy="0.0 0.0 0.0"/>
      <mass value="1.0"/>
      <inertia ixx="0.1" ixy="0.0" ixz="0.0" iyy="0.1" iyz="0.0" izz="0.1"/>
    </inertial>
    <visual>
      <origin xyz="0.0 0.0 -0.02" rpy="0.0 0.0 0.0"/>
      <geometry>
        <box size="0.3 0.8 0.04"/>
      </geometry>
      <material name="shelf_blue"/>
    </visual>
    <collision>
      <origin xyz="0.0 0.0 -0.02" rpy="0.0 0.0 0.0"/>
      <geometry>
        <box size="0.3 0.8 0.04"/>
      </geometry>
    </collision>
  </link>
  <joint name="shelf_hohc:kitchen_cabinet:shelf_floor_5:joint" type="fixed">
    <origin xyz="0.0 0.0 1.685" rpy="0.0 0.0 0.0"/>
    <parent link="shelf_hohc:kitchen_cabinet:shelf_base_center"/>
    <child link="shelf_hohc:kitchen_cabinet:shelf_floor_5"/>
  </joint>
  <link name="shelf_hohc:kitchen_cabinet:shelf_floor_6">
    <inertial>
      <origin xyz="0.0 0.0 0.0" rpy="0.0 0.0 0.0"/>
      <mass value="1.0"/>
      <inertia ixx="0.1" ixy="0.0" ixz="0.0" iyy="0.1" iyz="0.0" izz="0.1"/>
    </inertial>
    <visual>
      <origin xyz="0.0 0.0 -0.02" rpy="0.0 0.0 0.0"/>
      <geometry>
        <box size="0.3 0.8 0.04"/>
      </geometry>
      <material name="shelf_blue"/>
    </visual>
    <collision>
      <origin xyz="0.0 0.0 -0.02" rpy="0.0 0.0 0.0"/>
      <geometry>
        <box size="0.3 0.8 0.04"/>
      </geometry>
    </collision>
  </link>
  <joint name="shelf_hohc:kitchen_cabinet:shelf_floor_6:joint" type="fixed">
    <origin xyz="0.0 0.0 2.015" rpy="0.0 0.0 0.0"/>
    <parent link="shelf_hohc:kitchen_cabinet:shelf_base_center"/>
    <child link="shelf_hohc:kitchen_cabinet:shelf_floor_6"/>
  </joint>
  <link name="shelf_hohc:kitchen_cabinet:shelf_door_right">
    <inertial>
      <origin xyz="0.0 0.0 0.0" rpy="0.0 0.0 0.0"/>
      <mass value="1.0"/>
      <inertia ixx="0.1" ixy="0.0" ixz="0.0" iyy="0.1" iyz="0.0" izz="0.1"/>
    </inertial>
    <visual>
      <origin xyz="0.0 0.18 0.0" rpy="0.0 0.0 0.0"/>
      <geometry>
        <box size="0.02 0.38 0.97"/>
      </geometry>
      <material name="shelf_door_green"/>
    </visual>
    <collision>
      <origin xyz="0.0 0.18 0.0" rpy="0.0 0.0 0.0"/>
      <geometry>
        <box size="0.02 0.38 0.97"/>
      </geometry>
    </collision>
  </link>
  <link name="shelf_hohc:kitchen_cabinet:shelf_door_right:handle">
    <inertial>
      <origin xyz="0.0 0.0 0.0" rpy="0.0 0.0 0.0"/>
      <mass value="1.0"/>
      <inertia ixx="0.1" ixy="0.0" ixz="0.0" iyy="0.1" iyz="0.0" izz="0.1"/>
    </inertial>
    <visual>
      <origin xyz="0.0 0.0 0.0" rpy="0.0 0.0 0.0"/>
      <geometry>
        <box size="0.035 0.005 0.135"/>
      </geometry>
      <material name="shelf_hohc_handle_red"/>
    </visual>
    <collision>
      <origin xyz="0.0 0.0 0.0" rpy="0.0 0.0 0.0"/>
      <geometry>
        <box size="0.035 0.005 0.135"/>
      </geometry>
    </collision>
  </link>
  <joint name="shelf_hohc:kitchen_cabinet:shelf_door_right:handle_joint" type="fixed">
    <origin xyz="-0.037500000000000006 0.3525 0.15249999999999997" rpy="0.0 0.0 0.0"/>
    <axis xyz="0.0 0.0 1.0"/>
    <parent link="shelf_hohc:kitchen_cabinet:shelf_door_right"/>
    <child link="shelf_hohc:kitchen_cabinet:shelf_door_right:handle"/>
  </joint>
  <joint name="shelf_hohc:kitchen_cabinet:shelf_door_right:joint" type="revolute">
    <origin xyz="-0.13999999999999999 0.02 -0.48" rpy="0.0 0.0 0.0"/>
    <axis xyz="0.0 0.0 1.0"/>
    <parent link="shelf_hohc:kitchen_cabinet:shelf_right_side"/>
    <child link="shelf_hohc:kitchen_cabinet:shelf_door_right"/>
    <limit effort="30.0" lower="0.0" upper="1.7" velocity="1.0"/>
  </joint>
  <link name="shelf_hohc:kitchen_cabinet:shelf_door_left">
    <inertial>
      <origin xyz="0.0 0.0 0.0" rpy="0.0 0.0 0.0"/>
      <mass value="1.0"/>
      <inertia ixx="0.1" ixy="0.0" ixz="0.0" iyy="0.1" iyz="0.0" izz="0.1"/>
    </inertial>
    <visual>
      <origin xyz="0.0 -0.18 0.0" rpy="0.0 0.0 0.0"/>
      <geometry>
        <box size="0.02 0.38 0.97"/>
      </geometry>
      <material name="shelf_door_green"/>
    </visual>
    <collision>
      <origin xyz="0.0 -0.18 0.0" rpy="0.0 0.0 0.0"/>
      <geometry>
        <box size="0.02 0.38 0.97"/>
      </geometry>
    </collision>
  </link>
  <link name="shelf_hohc:kitchen_cabinet:shelf_door_left:handle">
    <inertial>
      <origin xyz="0.0 0.0 0.0" rpy="0.0 0.0 0.0"/>
      <mass value="1.0"/>
      <inertia ixx="0.1" ixy="0.0" ixz="0.0" iyy="0.1" iyz="0.0" izz="0.1"/>
    </inertial>
    <visual>
      <origin xyz="0.0 0.0 0.0" rpy="0.0 0.0 0.0"/>
      <geometry>
        <box size="0.035 0.005 0.135"/>
      </geometry>
      <material name="shelf_hohc_handle_red"/>
    </visual>
    <collision>
      <origin xyz="0.0 0.0 0.0" rpy="0.0 0.0 0.0"/>
      <geometry>
        <box size="0.035 0.005 0.135"/>
      </geometry>
    </collision>
  </link>
  <joint name="shelf_hohc:kitchen_cabinet:shelf_door_left:handle_joint" type="fixed">
    <origin xyz="-0.037500000000000006 -0.3525 0.15249999999999997" rpy="0.0 0.0 0.0"/>
    <axis xyz="0.0 0.0 1.0"/>
    <parent link="shelf_hohc:kitchen_cabinet:shelf_door_left"/>
    <child link="shelf_hohc:kitchen_cabinet:shelf_door_left:handle"/>
  </joint>
  <joint name="shelf_hohc:kitchen_cabinet:shelf_door_left:joint" type="revolute">
    <origin xyz="-0.13999999999999999 -0.02 -0.48" rpy="0.0 0.0 0.0"/>
    <axis xyz="0.0 0.0 1.0"/>
    <parent link="shelf_hohc:kitchen_cabinet:shelf_left_side"/>
    <child link="shelf_hohc:kitchen_cabinet:shelf_door_left"/>
    <limit effort="30.0" lower="-1.7" upper="0.0" velocity="1.0"/>
  </joint>
  <link name="trashcan:trashcan:trashcan_center">
    <inertial>
      <origin xyz="0.0 0.0 0.0" rpy="0.0 0.0 0.0"/>
      <mass value="1.0"/>
      <inertia ixx="0.1" ixy="0.0" ixz="0.0" iyy="0.1" iyz="0.0" izz="0.1"/>
    </inertial>
    <visual>
      <origin xyz="0.0 0.0 -0.245" rpy="0.0 0.0 0.0"/>
      <geometry>
        <cylinder radius="0.19" length="0.49"/>
      </geometry>
      <material name="trashcan_color"/>
    </visual>
    <collision>
      <origin xyz="0.0 0.0 -0.245" rpy="0.0 0.0 0.0"/>
      <geometry>
        <cylinder radius="0.19" length="0.49"/>
      </geometry>
    </collision>
  </link>
  <link name="trashcan:trashcan:trashcan_origin"/>
  <link name="trashcan:trashcan:trashcan_front_edge_center"/>
  <joint name="trashcan:trashcan:trashcan_origin_joint" type="fixed">
    <origin xyz="5.86 2.03 0.0" rpy="0.0 0.0 3.2"/>
    <parent link="urdf_offset"/>
    <child link="trashcan:trashcan:trashcan_origin"/>
  </joint>
  <joint name="trashcan:trashcan:center_joint" type="fixed">
    <origin xyz="0.19 0.0 0.49" rpy="0.0 0.0 0.0"/>
    <parent link="trashcan:trashcan:trashcan_origin"/>
    <child link="trashcan:trashcan:trashcan_center"/>
  </joint>
  <joint name="trashcan:trashcan:trashcan_front_edge_center_joint" type="fixed">
    <origin xyz="0.0 0.0 0.49" rpy="0.0 0.0 0.0"/>
    <parent link="trashcan:trashcan:trashcan_origin"/>
    <child link="trashcan:trashcan:trashcan_front_edge_center"/>
  </joint>
  <link name="coathanger:coathanger:coathanger_center">
    <inertial>
      <origin xyz="0.0 0.0 0.0" rpy="0.0 0.0 0.0"/>
      <mass value="1.0"/>
      <inertia ixx="0.1" ixy="0.0" ixz="0.0" iyy="0.1" iyz="0.0" izz="0.1"/>
    </inertial>
    <visual>
      <origin xyz="0.0 0.0 -0.9" rpy="0.0 0.0 0.0"/>
      <geometry>
        <box size="0.5 0.5 1.8"/>
      </geometry>
      <material name="coathanger_color"/>
    </visual>
    <collision>
      <origin xyz="0.0 0.0 -0.9" rpy="0.0 0.0 0.0"/>
      <geometry>
        <box size="0.5 0.5 1.8"/>
      </geometry>
    </collision>
  </link>
  <link name="coathanger:coathanger:coathanger_origin"/>
  <link name="coathanger:coathanger:coathanger_front_edge_center"/>
  <joint name="coathanger:coathanger:coathanger_origin_joint" type="fixed">
    <origin xyz="3.9 1.55 0.0" rpy="0.0 0.0 3.17"/>
    <parent link="urdf_offset"/>
    <child link="coathanger:coathanger:coathanger_origin"/>
  </joint>
  <joint name="coathanger:coathanger:center_joint" type="fixed">
    <origin xyz="0.25 0.25 1.8" rpy="0.0 0.0 0.0"/>
    <parent link="coathanger:coathanger:coathanger_origin"/>
    <child link="coathanger:coathanger:coathanger_center"/>
  </joint>
  <joint name="coathanger:coathanger:coathanger_front_edge_center_joint" type="fixed">
    <origin xyz="0.0 0.25 1.8" rpy="0.0 0.0 0.0"/>
    <parent link="coathanger:coathanger:coathanger_origin"/>
    <child link="coathanger:coathanger:coathanger_front_edge_center"/>
  </joint>
  <link name="lamp:lamp:lamp_center">
    <inertial>
      <origin xyz="0.0 0.0 0.0" rpy="0.0 0.0 0.0"/>
      <mass value="1.0"/>
      <inertia ixx="0.1" ixy="0.0" ixz="0.0" iyy="0.1" iyz="0.0" izz="0.1"/>
    </inertial>
    <visual>
      <origin xyz="0.0 0.0 -0.9" rpy="0.0 0.0 0.0"/>
      <geometry>
        <cylinder radius="0.09" length="1.8"/>
      </geometry>
      <material name="lamp_color"/>
    </visual>
    <collision>
      <origin xyz="0.0 0.0 -0.9" rpy="0.0 0.0 0.0"/>
      <geometry>
        <cylinder radius="0.09" length="1.8"/>
      </geometry>
    </collision>
  </link>
  <link name="lamp:lamp:lamp_origin"/>
  <link name="lamp:lamp:lamp_front_edge_center"/>
  <joint name="lamp:lamp:lamp_origin_joint" type="fixed">
    <origin xyz="10.7 -1.6 0.0" rpy="0.0 0.0 0.0"/>
    <parent link="urdf_offset"/>
    <child link="lamp:lamp:lamp_origin"/>
  </joint>
  <joint name="lamp:lamp:center_joint" type="fixed">
    <origin xyz="0.09 0.0 1.8" rpy="0.0 0.0 0.0"/>
    <parent link="lamp:lamp:lamp_origin"/>
    <child link="lamp:lamp:lamp_center"/>
  </joint>
  <joint name="lamp:lamp:lamp_front_edge_center_joint" type="fixed">
    <origin xyz="0.0 0.0 1.8" rpy="0.0 0.0 0.0"/>
    <parent link="lamp:lamp:lamp_origin"/>
    <child link="lamp:lamp:lamp_front_edge_center"/>
  </joint>
  <link name="urdf_main"/>
  <joint name="map_urdf_joint" type="fixed">
    <origin xyz="0.0 0.0 0.0" rpy="0.0 0.0 0.0"/>
    <parent link="urdf_main"/>
    <child link="urdf_offset"/>
  </joint>
  <link name="urdf_offset"/>
</robot>
